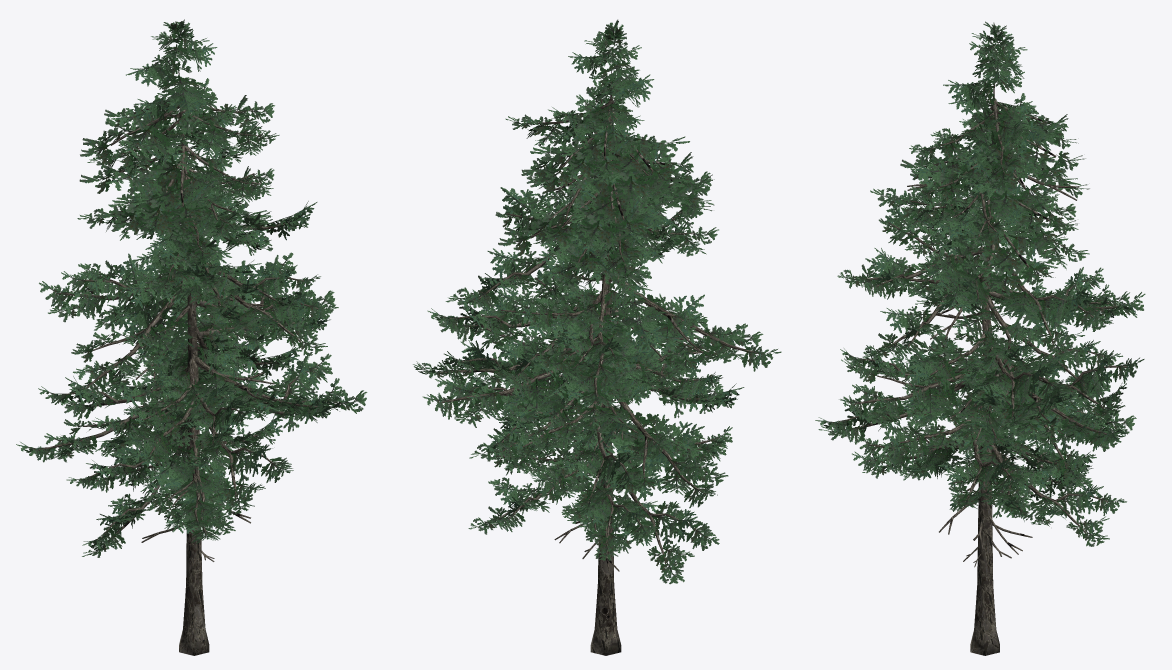
Rendered from Tree2-2.fbx.
3 renders of one model, left to right at view 1: azimuth 30°, elevation 25°; view 2: azimuth 150°, elevation 25°; view 3: azimuth 270°, elevation 25°, orthographic.
Visible parts, largest first — view 1: Tree2-2_LOD0; view 2: Tree2-2_LOD0; view 3: Tree2-2_LOD0.
Boxes of the visible parts, bbox=[...] form: Tree2-2_LOD0: bbox=[16, 19, 367, 655]; Tree2-2_LOD0: bbox=[413, 19, 781, 655]; Tree2-2_LOD0: bbox=[815, 21, 1145, 655].
Size of what is drawn, in the model's own units: 4.65 by 4.4 by 8.84.
